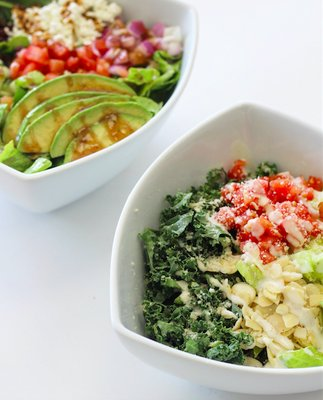curry: (139, 166, 262, 366), (277, 346, 322, 368)
sushi: (105, 103, 322, 398), (0, 0, 202, 216)
